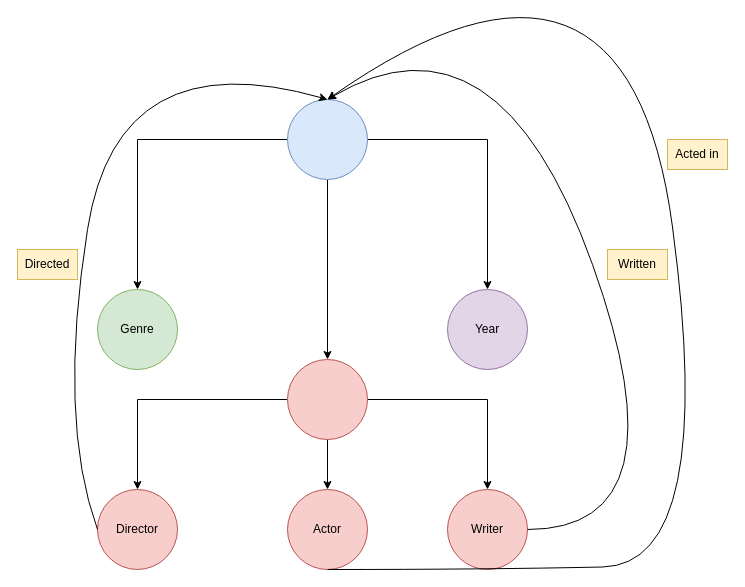
Some shapes in this 745 by 587 pixel diagram are drawn without their labels. The shapes that lost their labels are listed below. From the top down, each one's centre as x and y in pixels, then its label:
At (327,139): "Movie".
At (327,399): "Person".
